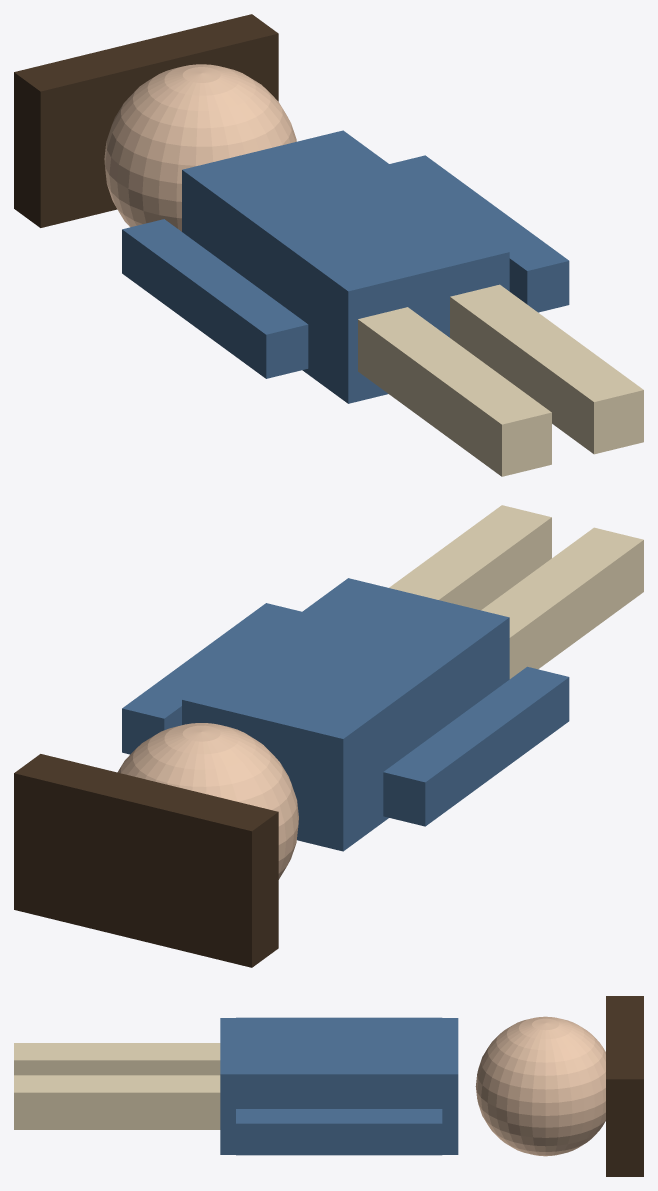
Rendered from colonial-person.glb.
3 renders of one model, top to bottom at view 1: azimuth 30°, elevation 25°; view 2: azimuth 150°, elevation 25°; view 3: azimuth 270°, elevation 25°, orthographic. The views are drawn at different scales.
Visible parts, largest first — view 1: Body, Tricorn Hat, Head, Left Leg, Right Leg, Left Arm, Right Arm; view 2: Body, Tricorn Hat, Left Arm, Left Leg, Head, Right Leg, Right Arm; view 3: Body, Head, Right Leg, Right Arm, Tricorn Hat, Left Leg.
Boxes of the visible parts, x1=… form: Body: x1=182, y1=130, x2=509, y2=403; Tricorn Hat: x1=14, y1=14, x2=278, y2=227; Head: x1=104, y1=64, x2=296, y2=231; Left Leg: x1=358, y1=307, x2=551, y2=476; Right Leg: x1=450, y1=284, x2=643, y2=454; Left Arm: x1=122, y1=219, x2=308, y2=378; Right Arm: x1=389, y1=155, x2=569, y2=312; Body: x1=182, y1=578, x2=509, y2=851; Tricorn Hat: x1=14, y1=754, x2=278, y2=967; Left Arm: x1=383, y1=666, x2=569, y2=826; Left Leg: x1=481, y1=527, x2=643, y2=678; Head: x1=117, y1=723, x2=298, y2=879; Right Leg: x1=389, y1=505, x2=551, y2=610; Right Arm: x1=122, y1=603, x2=301, y2=754; Body: x1=220, y1=1018, x2=458, y2=1154; Head: x1=475, y1=1016, x2=605, y2=1156; Right Leg: x1=14, y1=1075, x2=220, y2=1129; Right Arm: x1=236, y1=1109, x2=442, y2=1155; Tricorn Hat: x1=606, y1=996, x2=643, y2=1176; Left Leg: x1=14, y1=1043, x2=220, y2=1075.
Size of the model in its own units: 0.79 by 0.44 by 1.99.
